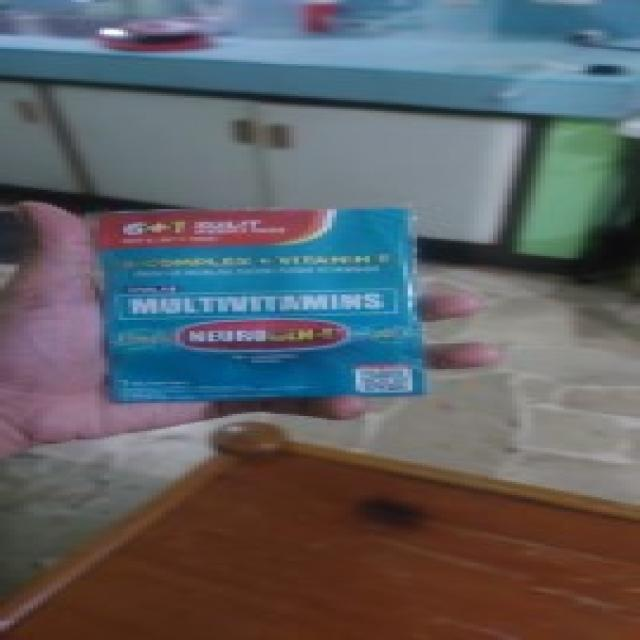Cacat: (92, 206, 426, 406)
